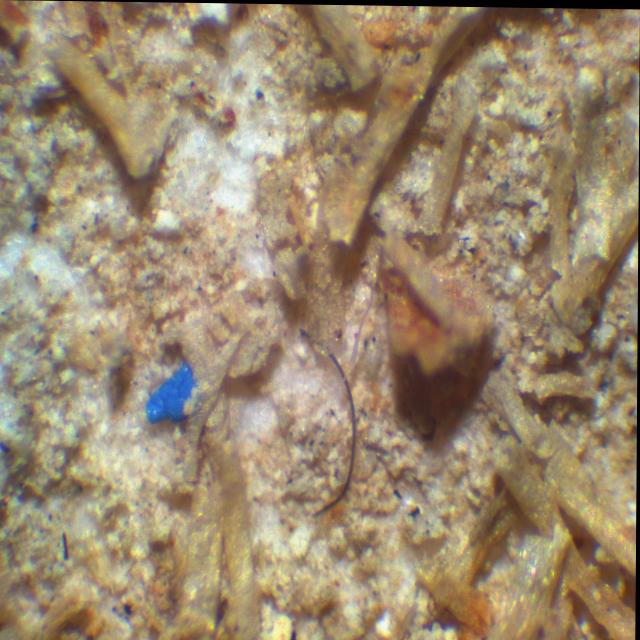microplastic: (300, 325, 357, 519), (146, 362, 197, 425)
